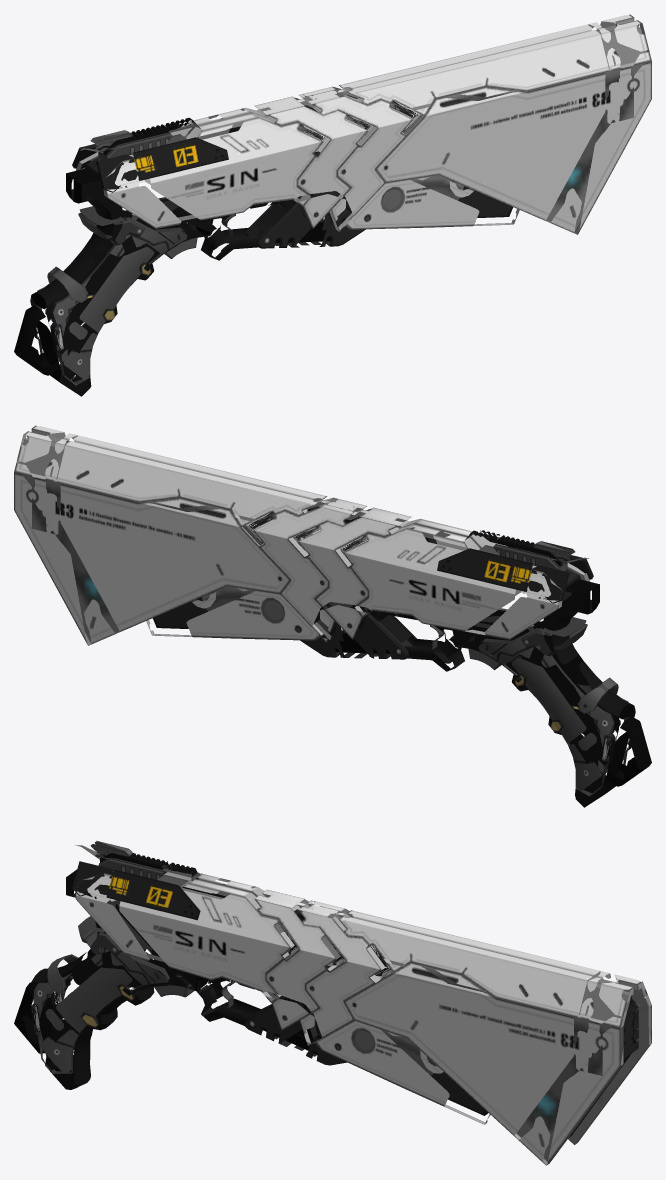
Rendered from E3GunMd090011.fbx.
3 views of the same model, one above another, from view 1: azimuth 30°, elevation 25°; view 2: azimuth 150°, elevation 25°; view 3: azimuth 330°, elevation 25° (orthographic).
Parts seen in each view (by area): view 1: E3GunMd090011; view 2: E3GunMd090011; view 3: E3GunMd090011.
Part boxes in pixels (x1,y1,x2,y2): E3GunMd090011: [14, 14, 651, 396]; E3GunMd090011: [14, 425, 651, 807]; E3GunMd090011: [14, 840, 651, 1165].
Size of the model in its own units: 0.3942 by 0.1518 by 0.0387.
Materials: 1 (1 with a texture image).
